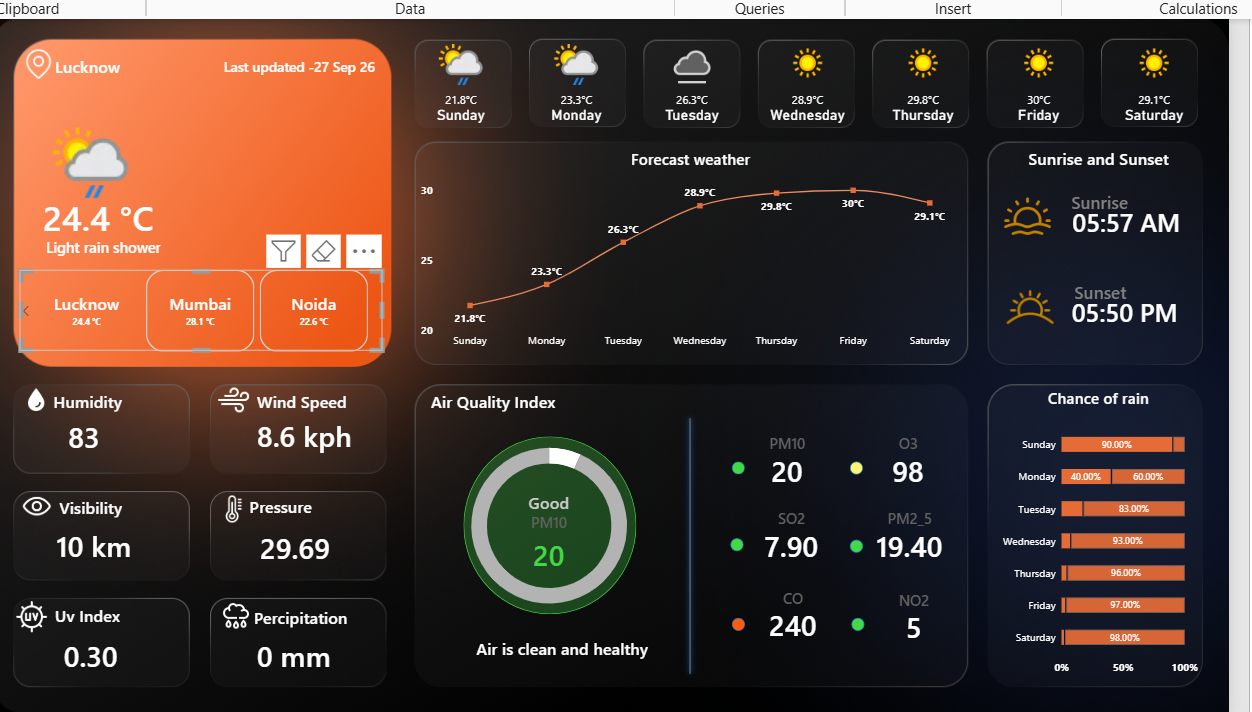

The dashboard page shown, as its layout file describes it:
{"tool":"powerbi","page":{"name":"Page 1","canvas":[1920,1080],"ordinal":0},"visuals":[{"type":"advancedSlicerVisual","fields":{"Values":["Location.location.name"]},"box":[46.4,387.4,561.4,127.6],"z":0},{"type":"shape","box":[58.3,256.7,217,100.3],"z":1000},{"type":"shape","box":[86.4,317.4,427.1,70],"z":2000},{"type":"shape","box":[100.6,38.9,194.2,68.5],"z":3000},{"type":"shape","box":[349.7,38.9,246.8,68.5],"z":4000},{"type":"image","box":[52.6,38.9,45.7,61.7],"z":5000},{"type":"cardVisual","fields":{"Data":["Min(Current.current.condition.icon)"]},"box":[86.4,149.4,140,140],"z":6000},{"type":"image","box":[46.7,728.2,53.7,51.3],"z":7000},{"type":"image","box":[37.3,571.8,70,37.3],"z":8000},{"type":"image","box":[350.1,564.8,56,51.3],"z":9000},{"type":"image","box":[30.3,900.9,70,51.3],"z":10000},{"type":"image","box":[345.4,737.5,65.3,42],"z":11000},{"type":"image","box":[350.1,900.9,63,49],"z":12000},{"type":"cardVisual","fields":{"Data":["Sum(Current.current.humidity)"]},"box":[106.1,609.1,139,73.3],"z":13000},{"type":"shape","box":[98,557.8,194.2,68.5],"z":14000},{"type":"shape","box":[413.1,557.8,194.2,68.5],"z":15000},{"type":"shape","box":[401.4,718.8,194.2,68.5],"z":16000},{"type":"shape","box":[106.7,722.2,196,67],"z":17000},{"type":"shape","box":[409.5,890.9,193.6,69.5],"z":18000},{"type":"shape","box":[100.4,889.2,194.2,68.5],"z":19000},{"type":"cardVisual","fields":{"Data":["Measure.Wind_speed"]},"box":[396.7,610.1,211.1,71.9],"z":20000},{"type":"cardVisual","fields":{"Data":["Measure.visibility"]},"box":[85.9,778.4,207.2,73.3],"z":21000},{"type":"cardVisual","fields":{"Data":["Sum(Current.current.pressure_in)"]},"box":[401.8,781,194.6,73.3],"z":22000},{"type":"cardVisual","fields":{"Data":["Measure.Prep"]},"box":[396.8,950.3,199.7,70.8],"z":23000},{"type":"cardVisual","fields":{"Data":["Sum(Current.current.uv)"]},"box":[98.6,950.3,194.6,70.8],"z":24000},{"type":"advancedSlicerVisual","fields":{"Values":["Forecast day.Day name"]},"box":[644.9,20.9,1250.3,150.8],"z":25000},{"type":"lineChart","title":"Forecast weather","fields":{"Y":["Sum(Forecast day.forecast.forecastday.day.avgtemp_c)"],"Category":["Forecast day.Day name"]},"box":[667.6,201,836.3,312.7],"z":26000},{"type":"shape","box":[1608.1,188.6,223.3,52.1],"z":27000},{"type":"shape","box":[1665.2,270.5,188.6,86.8],"z":28000},{"type":"shape","box":[1662.7,409.5,188.6,86.8],"z":29000},{"type":"image","box":[1538.6,270.5,139,72],"z":30000},{"type":"image","box":[1563.4,392.1,96.8,106.7],"z":31000},{"type":"shape","box":[1625.5,240.7,188.6,86.8],"z":32000},{"type":"shape","box":[1655.2,392.1,131.5,59.5],"z":33000},{"type":"hundredPercentStackedBarChart","title":"Chance of rain","fields":{"Category":["Forecast day.Day name"],"Y":["Sum(Forecast day.forecast.forecastday.day.daily_chance_of_rain)","Measure.Rain_chance_left"]},"box":[1564.3,572,308.6,449.6],"z":34000},{"type":"shape","box":[683.3,557.6,194.2,68.5],"z":35000},{"type":"cardVisual","fields":{"Data":["Sum(Current.current.air_quality.o3)"]},"box":[1337,641.9,171.9,83.4],"z":36000},{"type":"cardVisual","fields":{"Data":["Sum(Current.current.air_quality.pm10)"]},"box":[1139.8,641.9,189.6,83.4],"z":37000},{"type":"cardVisual","fields":{"Data":["Sum(Current.current.air_quality.so2)"]},"box":[1147.4,758.2,189.6,83.4],"z":38000},{"type":"cardVisual","fields":{"Data":["Sum(Current.current.air_quality.pm2_5)"]},"box":[1329.4,758.2,189.6,83.4],"z":39000},{"type":"cardVisual","fields":{"Data":["Sum(Current.current.air_quality.co)"]},"box":[1149.9,882,189.6,83.4],"z":40000},{"type":"cardVisual","fields":{"Data":["Sum(Current.current.air_quality.no2)"]},"box":[1337,884.6,189.6,83.4],"z":41000},{"type":"shape","box":[1149.9,684.9,20,20],"z":42000},{"type":"shape","box":[1147.4,803.7,20.2,20.2],"z":43000},{"type":"shape","box":[1149.9,927.5,20.2,20.2],"z":44000},{"type":"shape","box":[1331.9,684.9,20.2,20.2],"z":45000},{"type":"shape","box":[1331.9,806.2,20.2,20.2],"z":46000},{"type":"shape","box":[1334.4,927.5,20.2,20.2],"z":47000},{"type":"shape","box":[1010.9,609.1,149.1,412],"z":48000},{"type":"shape","box":[732.9,647,267.9,275.5],"z":49000},{"type":"donutChart","fields":{"Y":["Sum(Current.current.air_quality.pm10)","Measure.Left_value_pm10"]},"box":[700.1,561.1,333.6,447.3],"z":50000},{"type":"cardVisual","fields":{"Data":["Sum(Current.current.air_quality.pm10)"]},"box":[783.5,730.4,164.3,133.9],"z":51000},{"type":"shape","box":[684.9,925,401.8,98.6],"z":52000}]}

Visuals, with their boxes on the page's 1920x1080 design canvas (x1, y1, x2, y2). These are canvas units, not pixel positions in the 1252x712 screenshot, which may show the page scaled, cropped or inside an application window:
advancedSlicerVisual - Location.location.name: (x1=46, y1=387, x2=608, y2=515)
shape: (x1=58, y1=257, x2=275, y2=357)
shape: (x1=86, y1=317, x2=514, y2=387)
shape: (x1=101, y1=39, x2=295, y2=107)
shape: (x1=350, y1=39, x2=596, y2=107)
image: (x1=53, y1=39, x2=98, y2=101)
cardVisual - Min(Current.current.condition.icon): (x1=86, y1=149, x2=226, y2=289)
image: (x1=47, y1=728, x2=100, y2=780)
image: (x1=37, y1=572, x2=107, y2=609)
image: (x1=350, y1=565, x2=406, y2=616)
image: (x1=30, y1=901, x2=100, y2=952)
image: (x1=345, y1=738, x2=411, y2=780)
image: (x1=350, y1=901, x2=413, y2=950)
cardVisual - Sum(Current.current.humidity): (x1=106, y1=609, x2=245, y2=682)
shape: (x1=98, y1=558, x2=292, y2=626)
shape: (x1=413, y1=558, x2=607, y2=626)
shape: (x1=401, y1=719, x2=596, y2=787)
shape: (x1=107, y1=722, x2=303, y2=789)
shape: (x1=410, y1=891, x2=603, y2=960)
shape: (x1=100, y1=889, x2=295, y2=958)
cardVisual - Measure.Wind_speed: (x1=397, y1=610, x2=608, y2=682)
cardVisual - Measure.visibility: (x1=86, y1=778, x2=293, y2=852)
cardVisual - Sum(Current.current.pressure_in): (x1=402, y1=781, x2=596, y2=854)
cardVisual - Measure.Prep: (x1=397, y1=950, x2=596, y2=1021)
cardVisual - Sum(Current.current.uv): (x1=99, y1=950, x2=293, y2=1021)
advancedSlicerVisual - Forecast day.Day name: (x1=645, y1=21, x2=1895, y2=172)
"Forecast weather" lineChart: (x1=668, y1=201, x2=1504, y2=514)
shape: (x1=1608, y1=189, x2=1831, y2=241)
shape: (x1=1665, y1=270, x2=1854, y2=357)
shape: (x1=1663, y1=410, x2=1851, y2=496)
image: (x1=1539, y1=270, x2=1678, y2=342)
image: (x1=1563, y1=392, x2=1660, y2=499)
shape: (x1=1626, y1=241, x2=1814, y2=328)
shape: (x1=1655, y1=392, x2=1787, y2=452)
"Chance of rain" hundredPercentStackedBarChart: (x1=1564, y1=572, x2=1873, y2=1022)
shape: (x1=683, y1=558, x2=878, y2=626)
cardVisual - Sum(Current.current.air_quality.o3): (x1=1337, y1=642, x2=1509, y2=725)
cardVisual - Sum(Current.current.air_quality.pm10): (x1=1140, y1=642, x2=1329, y2=725)
cardVisual - Sum(Current.current.air_quality.so2): (x1=1147, y1=758, x2=1337, y2=842)
cardVisual - Sum(Current.current.air_quality.pm2_5): (x1=1329, y1=758, x2=1519, y2=842)
cardVisual - Sum(Current.current.air_quality.co): (x1=1150, y1=882, x2=1340, y2=965)
cardVisual - Sum(Current.current.air_quality.no2): (x1=1337, y1=885, x2=1527, y2=968)
shape: (x1=1150, y1=685, x2=1170, y2=705)
shape: (x1=1147, y1=804, x2=1168, y2=824)
shape: (x1=1150, y1=928, x2=1170, y2=948)
shape: (x1=1332, y1=685, x2=1352, y2=705)
shape: (x1=1332, y1=806, x2=1352, y2=826)
shape: (x1=1334, y1=928, x2=1355, y2=948)
shape: (x1=1011, y1=609, x2=1160, y2=1021)
shape: (x1=733, y1=647, x2=1001, y2=922)
donutChart - Sum(Current.current.air_quality.pm10) x Measure.Left_value_pm10: (x1=700, y1=561, x2=1034, y2=1008)
cardVisual - Sum(Current.current.air_quality.pm10): (x1=784, y1=730, x2=948, y2=864)
shape: (x1=685, y1=925, x2=1087, y2=1024)
